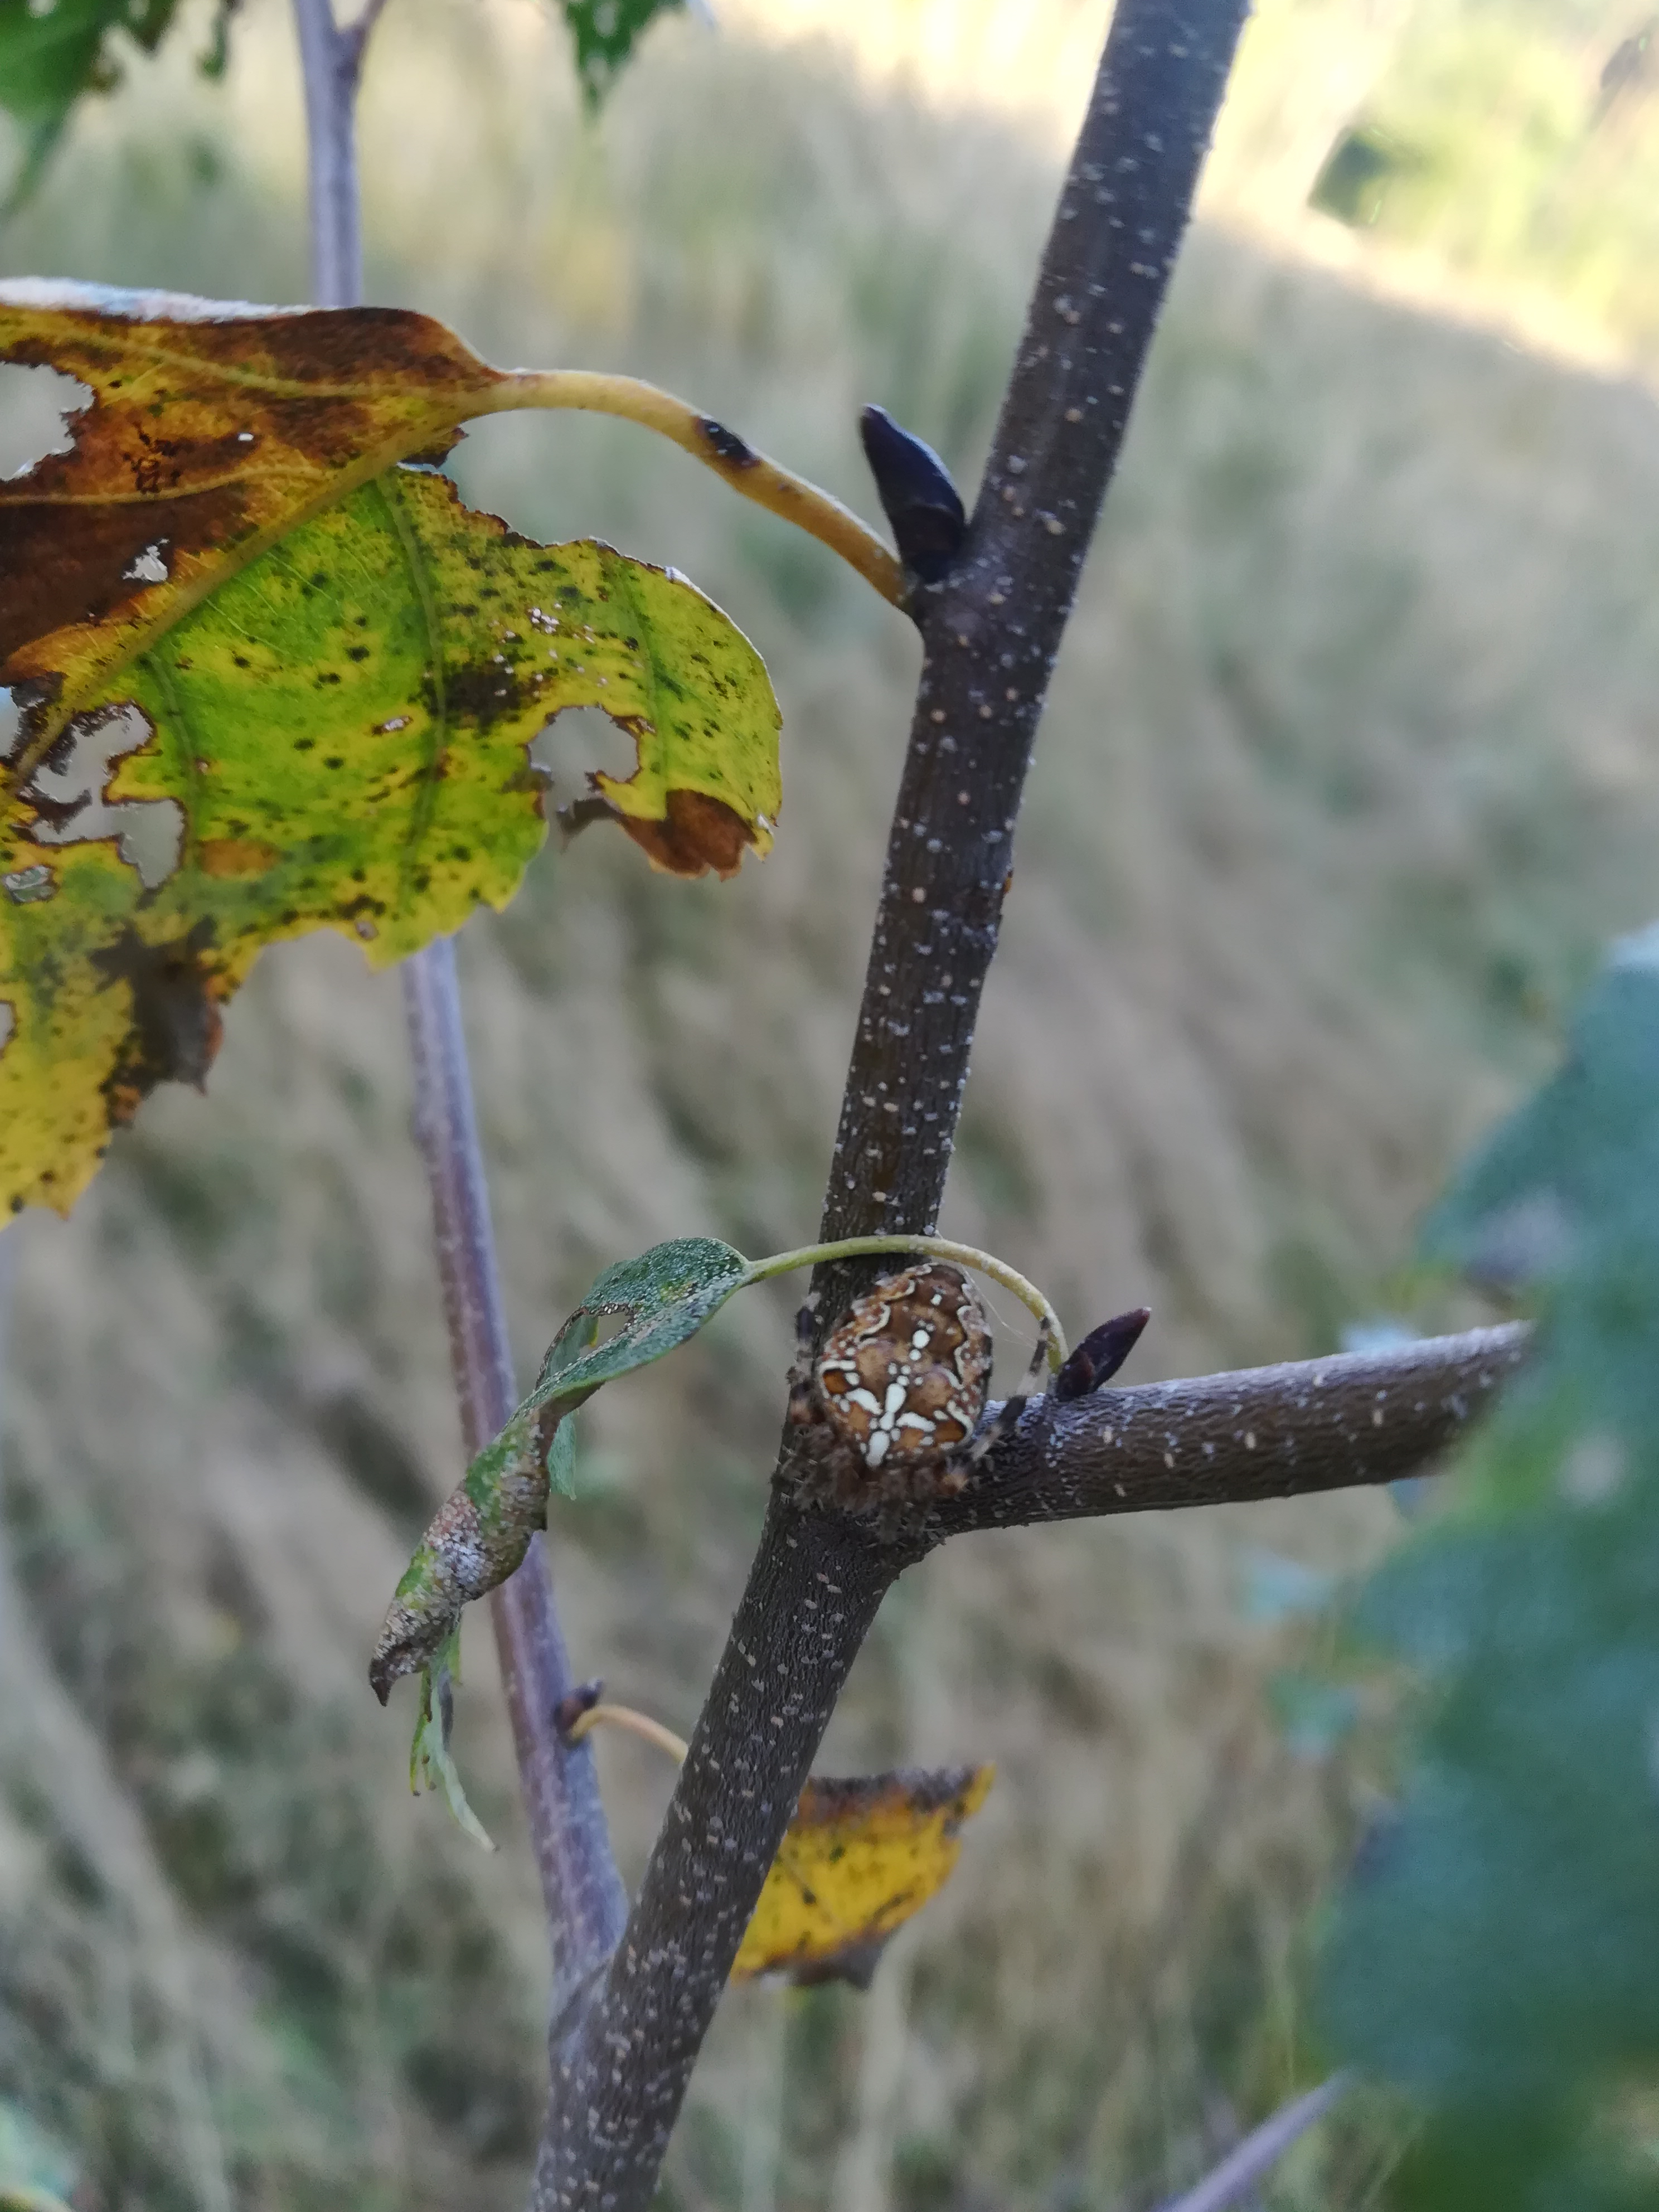spider: (732, 1195, 1073, 1588)
